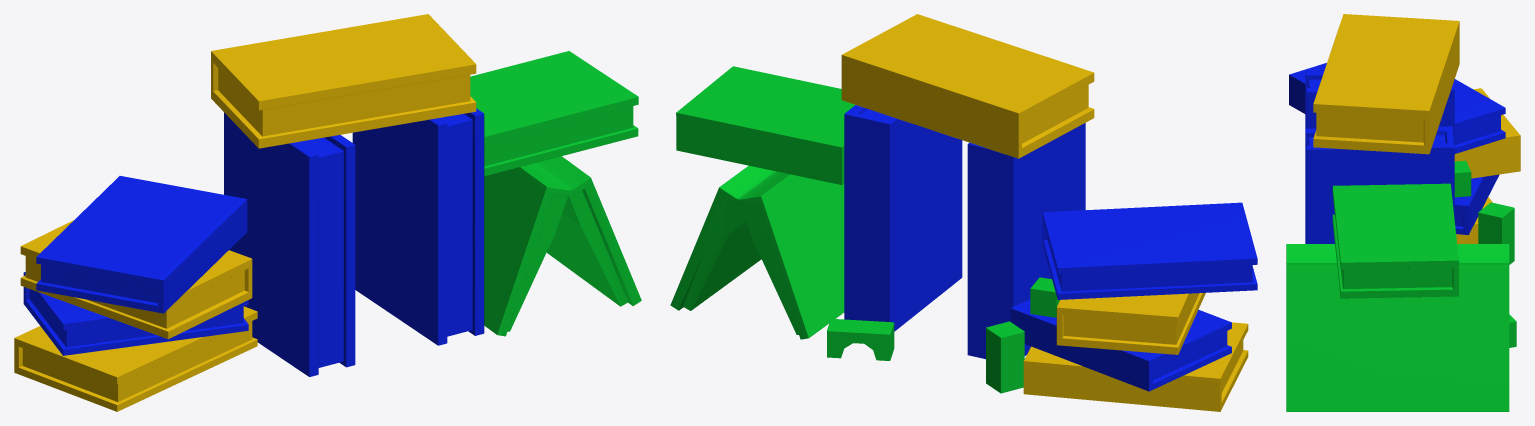
File: Podium.fbx
3 views of the same model, side by side, from view 1: azimuth 30°, elevation 25°; view 2: azimuth 150°, elevation 25°; view 3: azimuth 270°, elevation 25° (orthographic). The views are drawn at different scales.
Parts seen in each view (by area): view 1: polySurface221 (×3); view 2: polySurface221 (×3); view 3: polySurface221 (×3).
Boxes of the visible parts, bbox=[...] form: polySurface221 (×3): bbox=[14, 14, 641, 411]; polySurface221 (×3): bbox=[670, 14, 1257, 411]; polySurface221 (×3): bbox=[1286, 14, 1520, 411].
Bounding box in the file's own units: 490 × 223 × 189.
